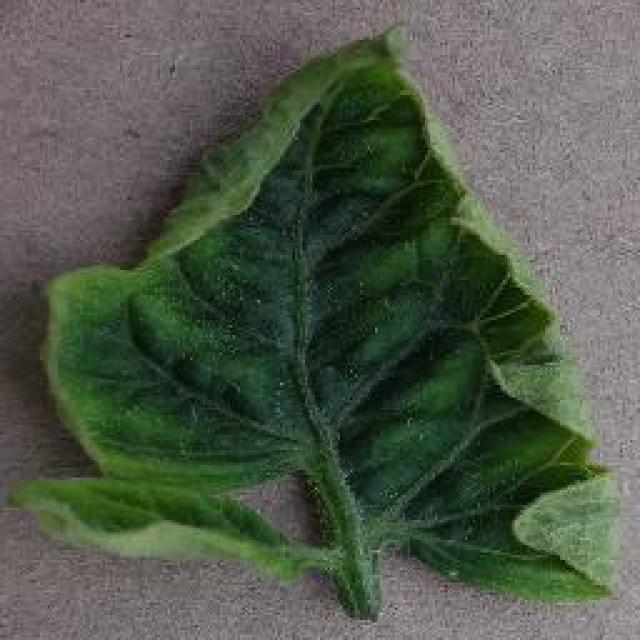Tomato yellow virus leaf: (21, 31, 621, 616)
